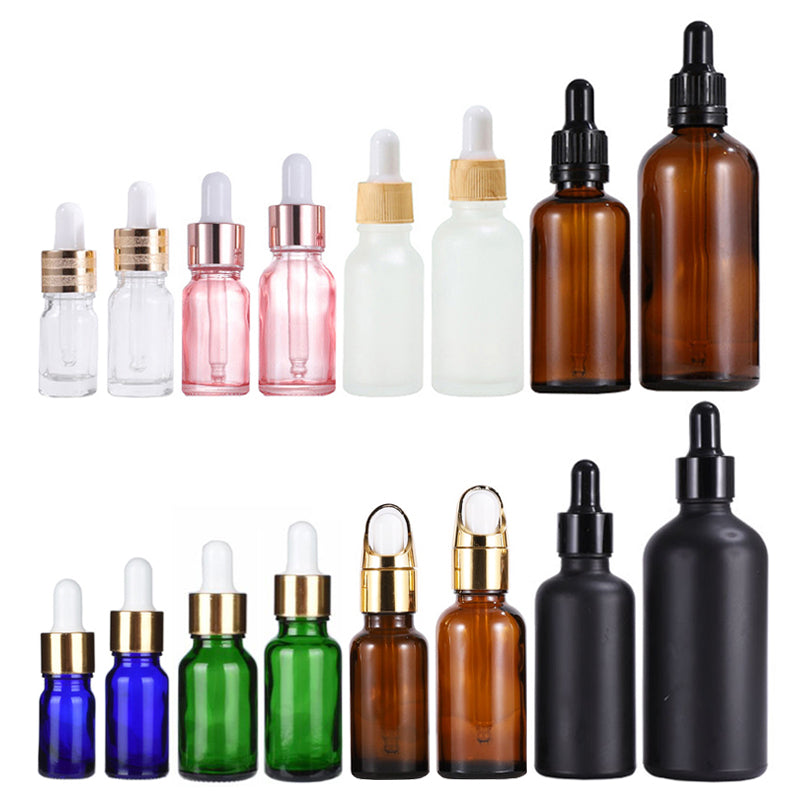glass_bottle: (23, 405, 783, 788), (24, 15, 779, 397)
